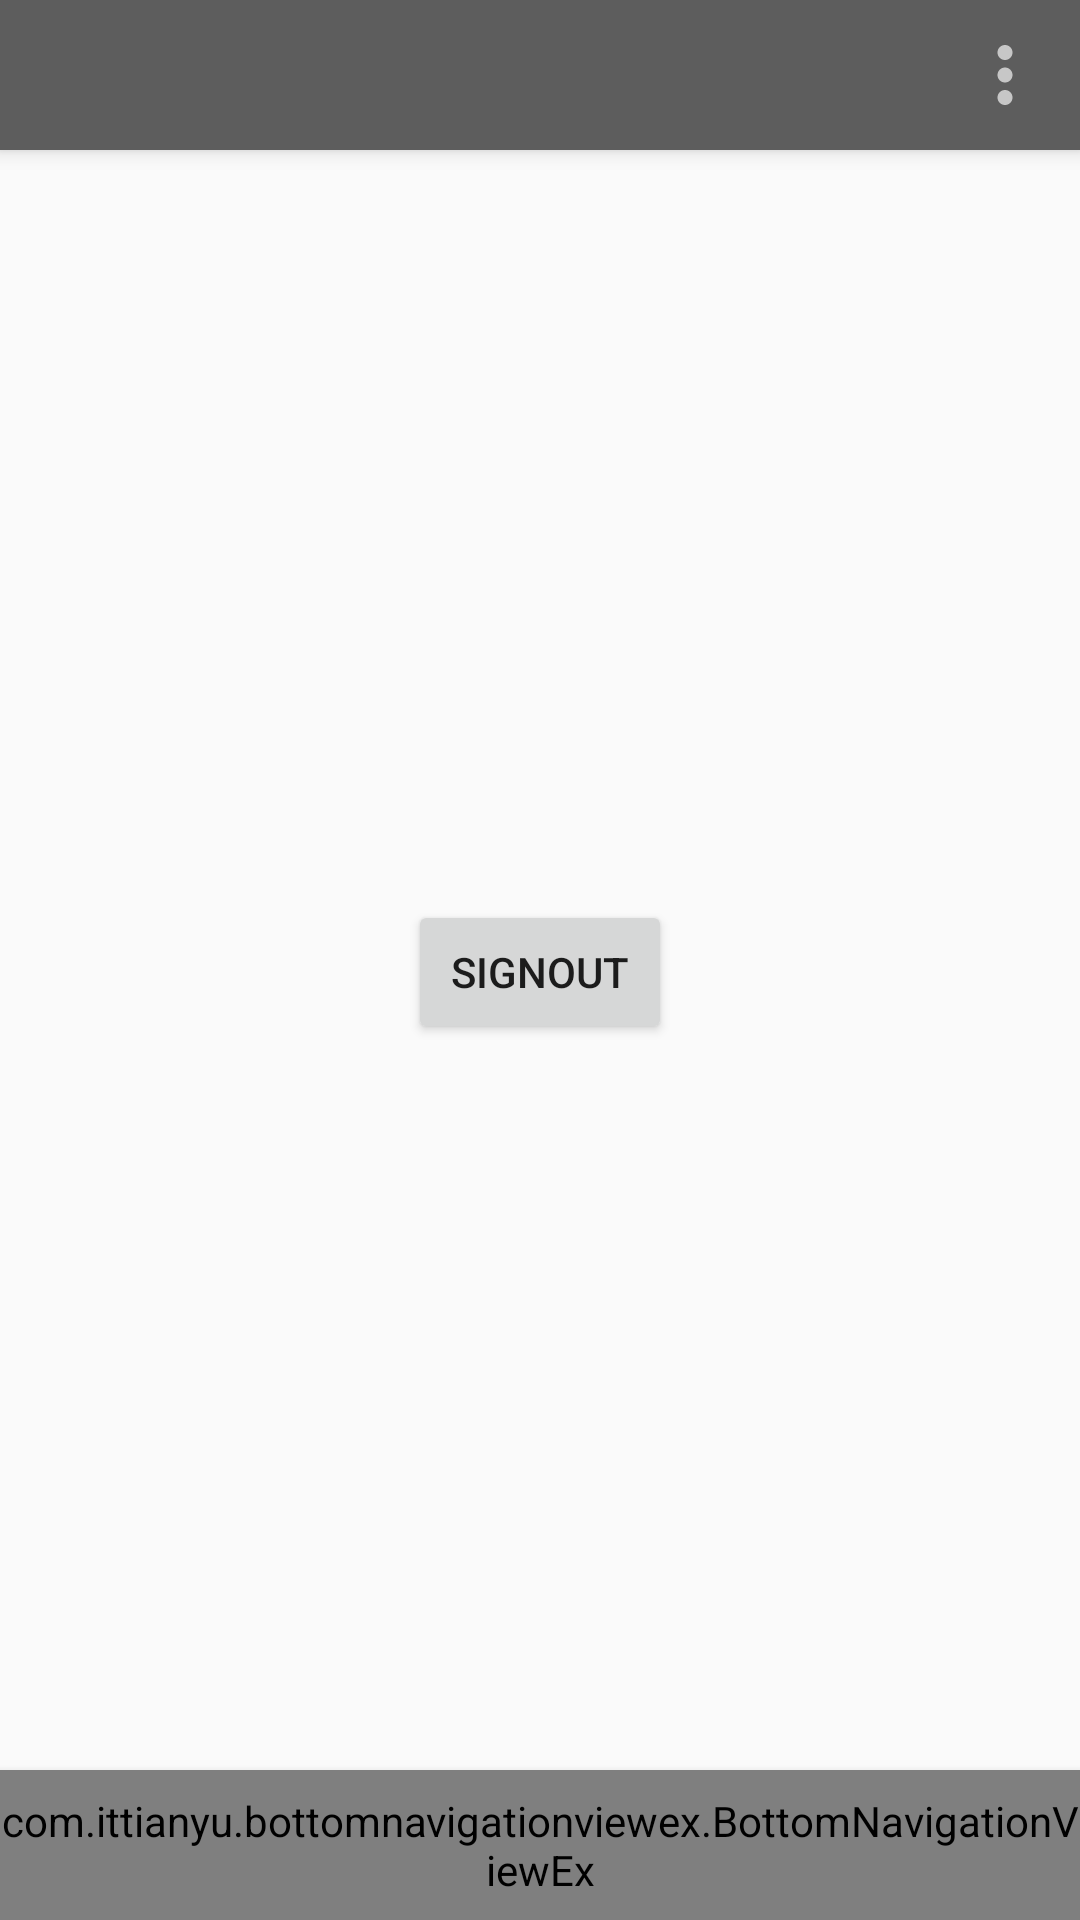

Point at icon controls on the screen. Image size 1080w x 1920h, points as (x,y).
more: (1005,75)
